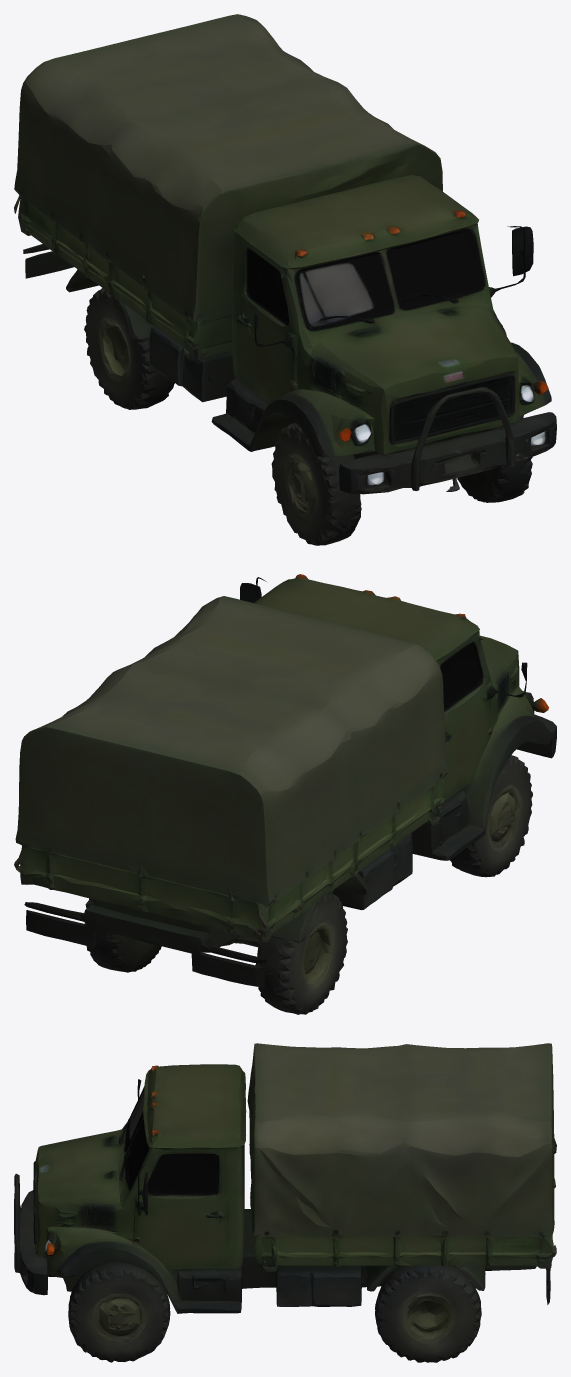
The model's file is truck.glb.
3 renders of one model, top to bottom at view 1: azimuth 30°, elevation 25°; view 2: azimuth 150°, elevation 25°; view 3: azimuth 270°, elevation 25°, orthographic. The views are drawn at different scales.
Parts seen in each view (by area): view 1: model; view 2: model; view 3: model.
Boxes of the visible parts, x1,y1,x2,y2 form: model: (14,14,556,545); model: (14,574,556,1014); model: (14,1043,556,1362).
Bounding box in the file's own units: 1.45 × 1.43 × 2.9.
Materials: 1 (1 with a texture image).
